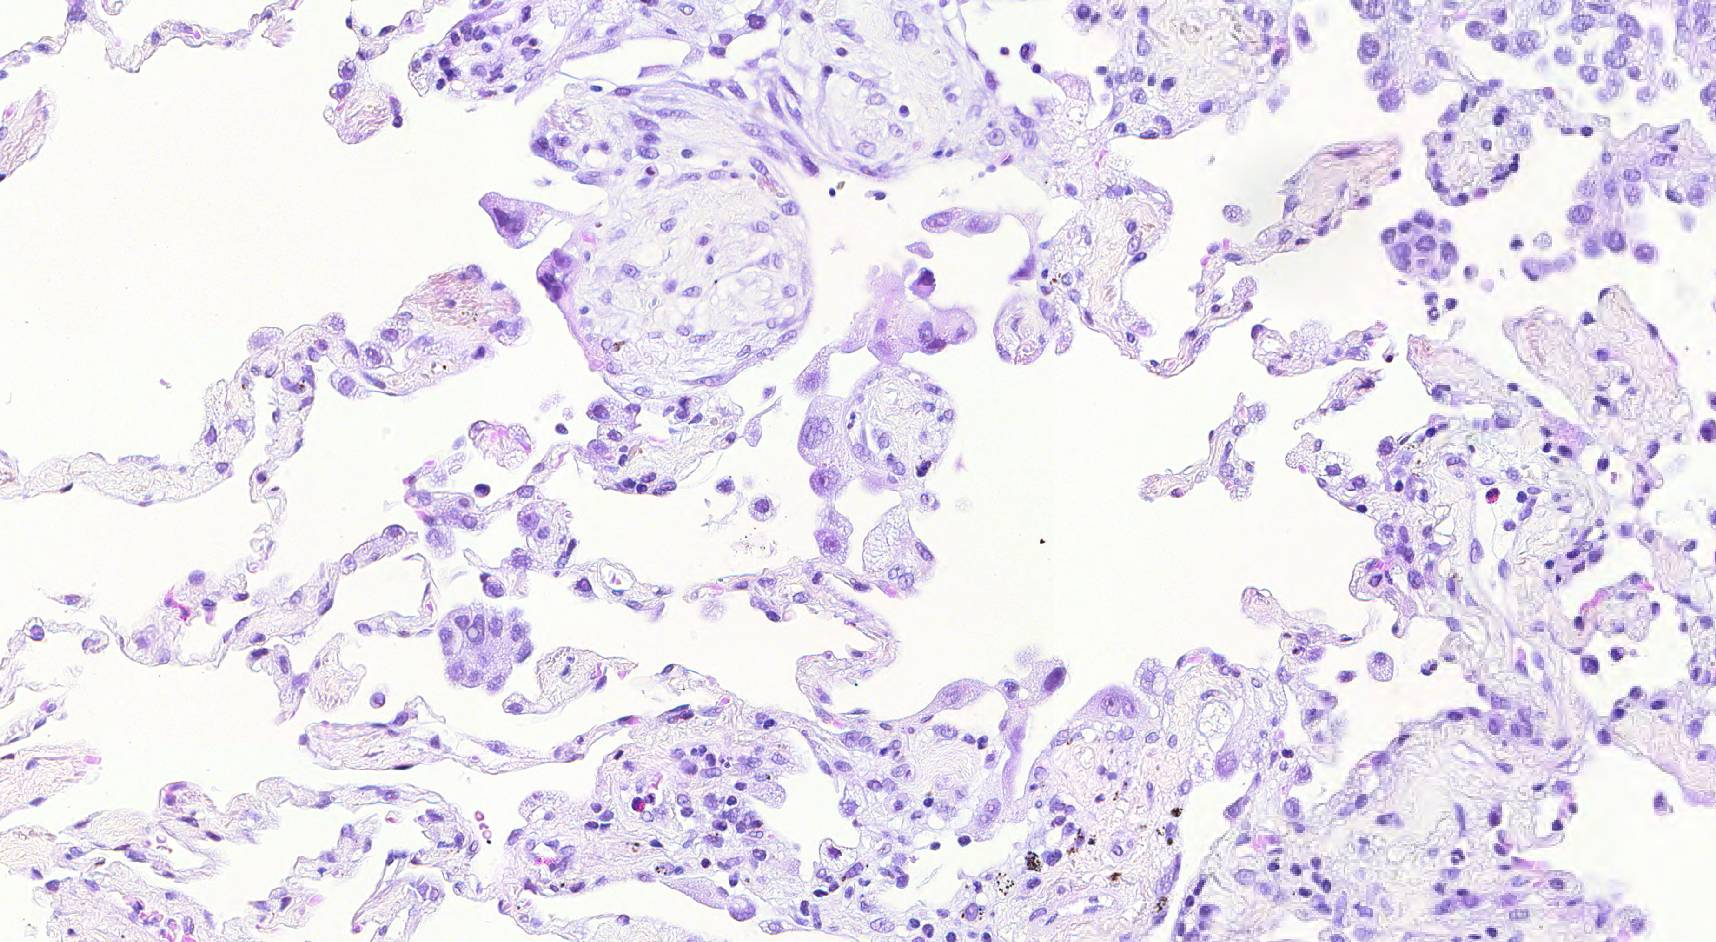stas: (438, 603, 536, 693), (1376, 206, 1461, 283)
